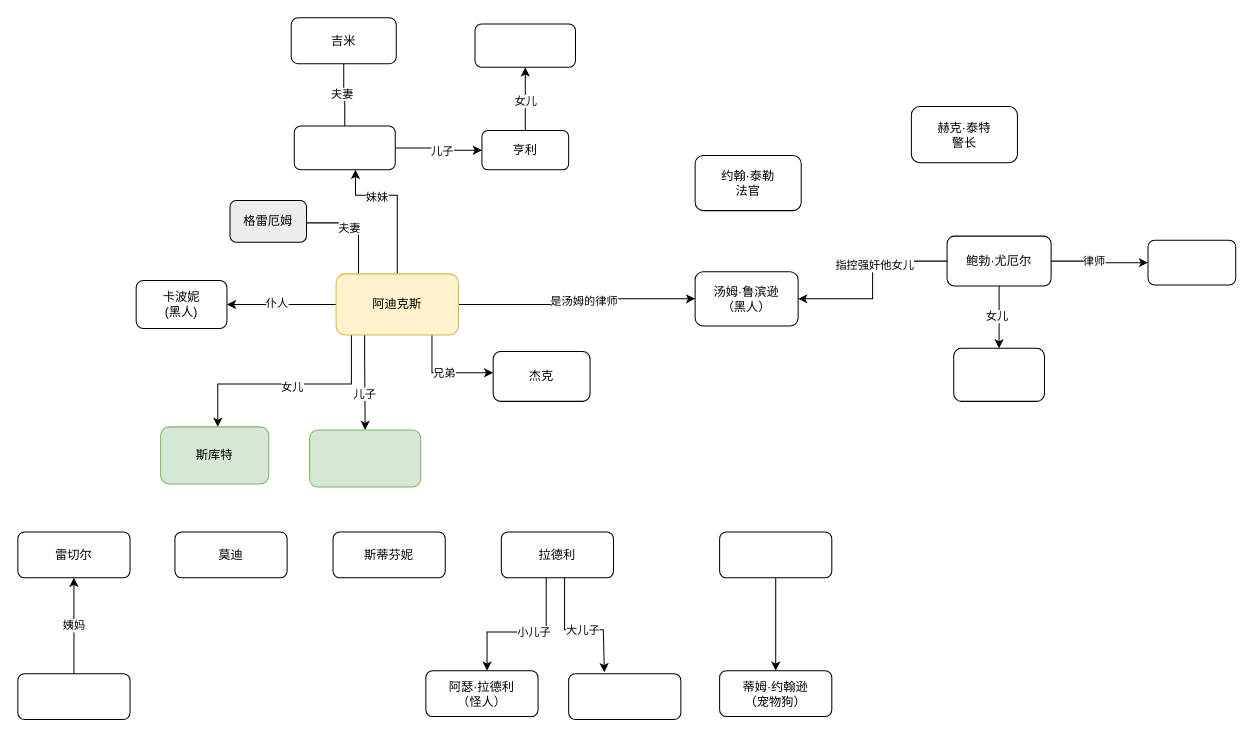
Some shapes in this 1254 by 737 pixel diagram are drawn without their labels. The box of each missing label's shape, as (x1, y1, x2, y2) in pixels:
亚历山德拉: (293, 125, 395, 170)
内森·拉德利: (568, 673, 681, 720)
吉尔莫: (1147, 239, 1236, 285)
哈利·约翰逊: (719, 531, 832, 578)
弗朗西斯: (474, 23, 575, 67)
杰姆: (309, 429, 421, 487)
迪尔·哈里斯: (17, 673, 130, 720)
马耶拉·尤厄尔: (953, 347, 1044, 401)
